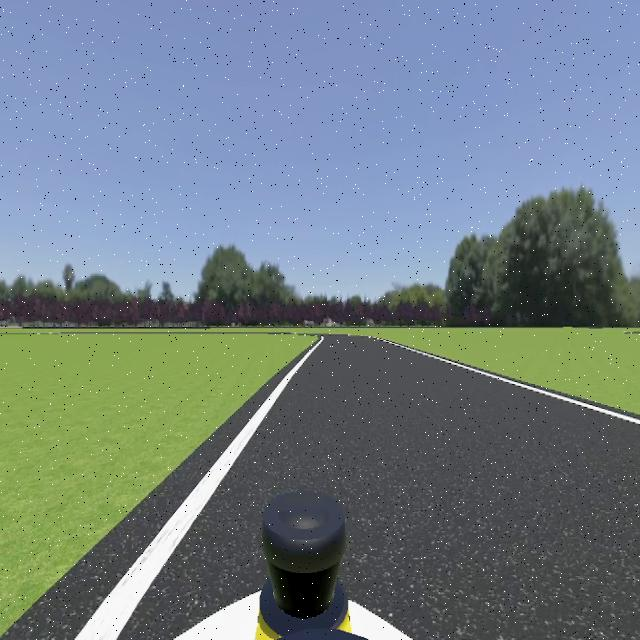road: (119, 338, 640, 640)
solid_line: (73, 340, 322, 640), (380, 339, 640, 427)
